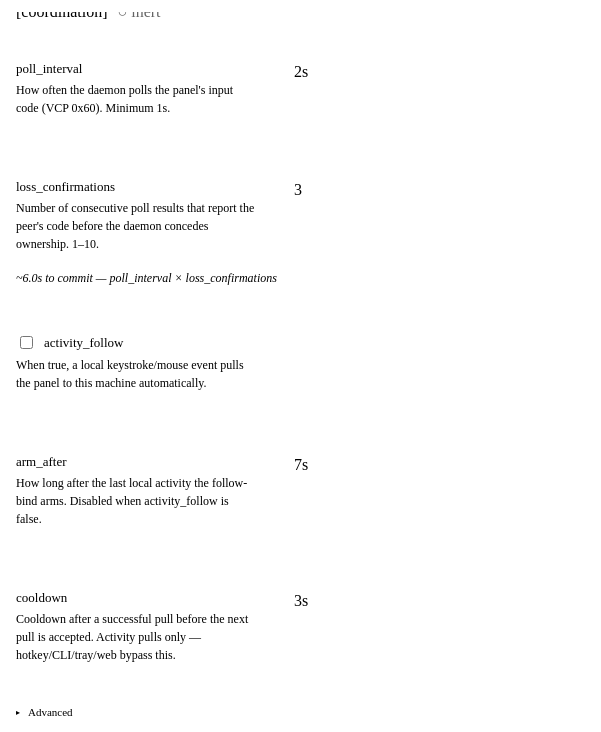
Test: CoordinationSection › latency chip updates live when poll_interval is edited
The width and height of the screenshot is (601, 732).
(page scrolled)
Expected: the text "~6.0s to commit — poll_interval × loss_confirmations" is shown, [16, 271, 277, 285]
Step 1. Type "5s" into the field labelled "poll_interval" → (434,72), box [284, 57, 584, 87]
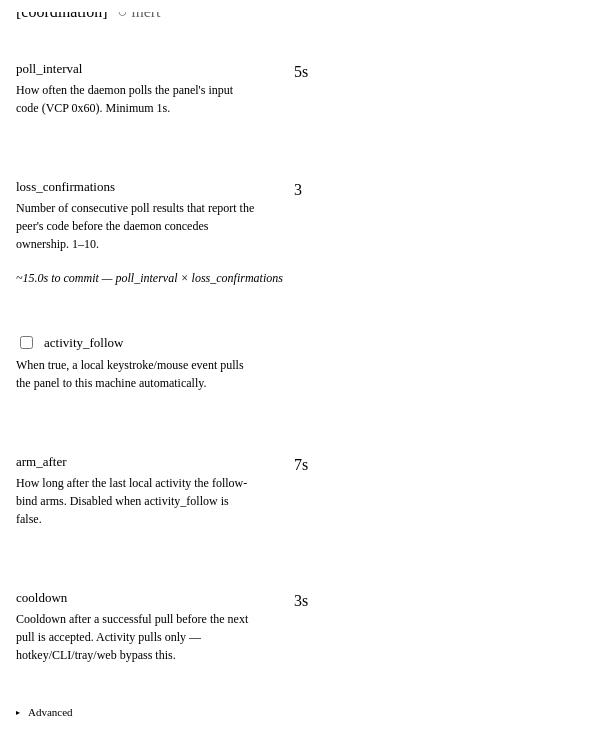
Now the text "~15.0s to commit — poll_interval × loss_confirmations" is shown, box [16, 271, 283, 285]
